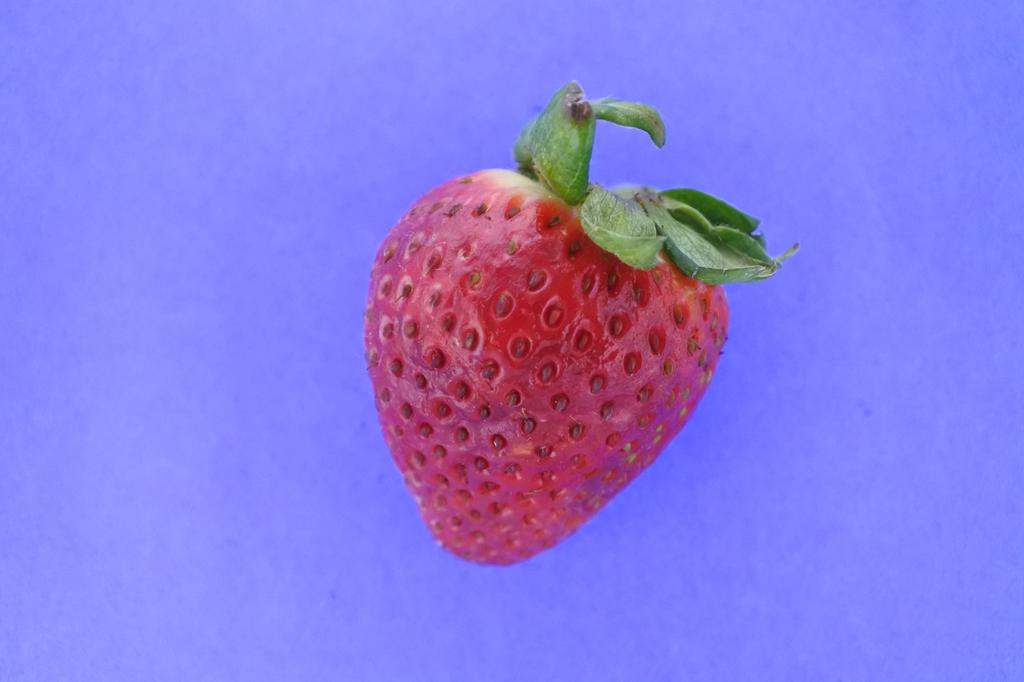red strawberry: (357, 81, 790, 570)
